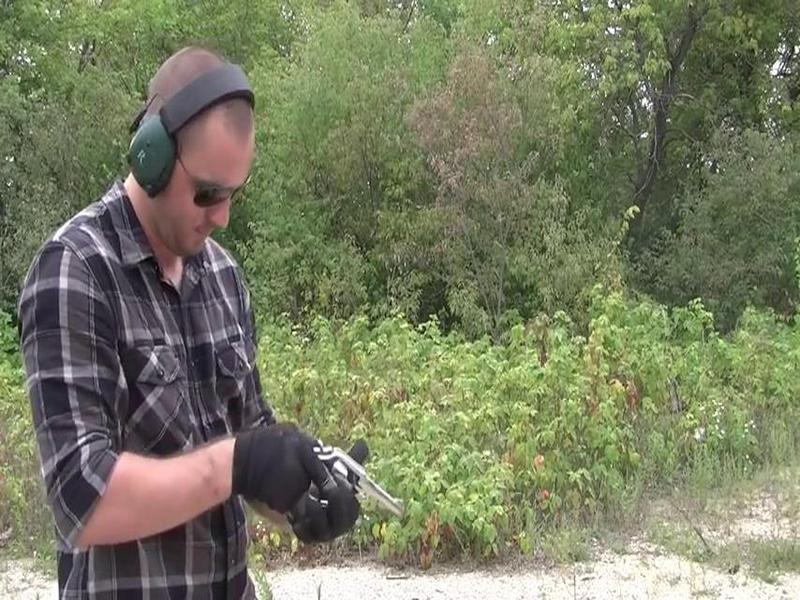Revolver: (271, 432, 417, 544)
